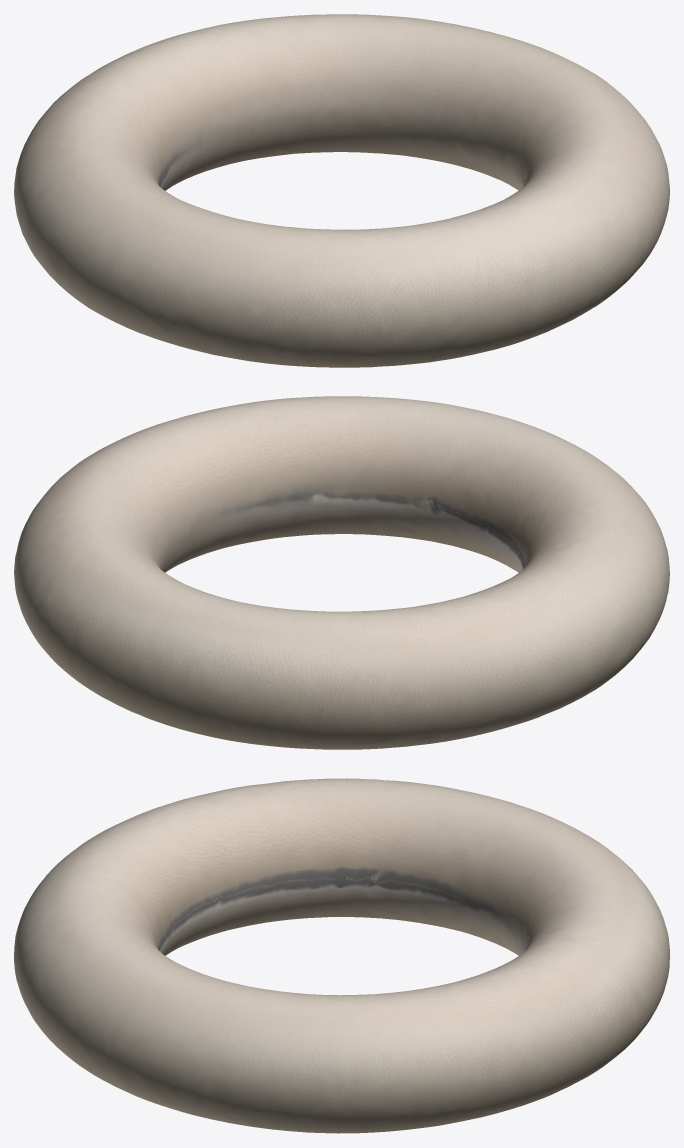
File: VAR_SunkenCity_LifeRing_White.fbx
The picture shows the model from 3 angles, top to bottom: view 1: azimuth 30°, elevation 25°; view 2: azimuth 150°, elevation 25°; view 3: azimuth 270°, elevation 25°; orthographic projection.
Parts seen in each view (by area): view 1: texture_mapping; view 2: texture_mapping; view 3: texture_mapping.
Part boxes in pixels (x1,y1,x2,y2): texture_mapping: (14,14,669,367); texture_mapping: (14,396,669,749); texture_mapping: (14,778,669,1133).
Size of the model in its own units: 1 by 1 by 0.2121.
Materials: 1 (1 with a texture image).
